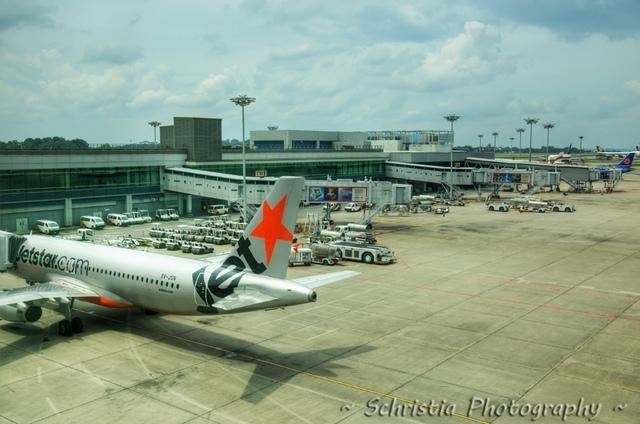car: (35, 219, 61, 235), (106, 212, 130, 226), (80, 216, 104, 229), (552, 202, 576, 212), (180, 242, 198, 253), (154, 208, 170, 220), (128, 212, 144, 224), (193, 246, 215, 254), (167, 242, 188, 250), (166, 210, 180, 220), (122, 213, 134, 224), (153, 242, 165, 248)
truck: (51, 228, 96, 244), (309, 243, 341, 265), (288, 247, 313, 267), (334, 226, 348, 233)
